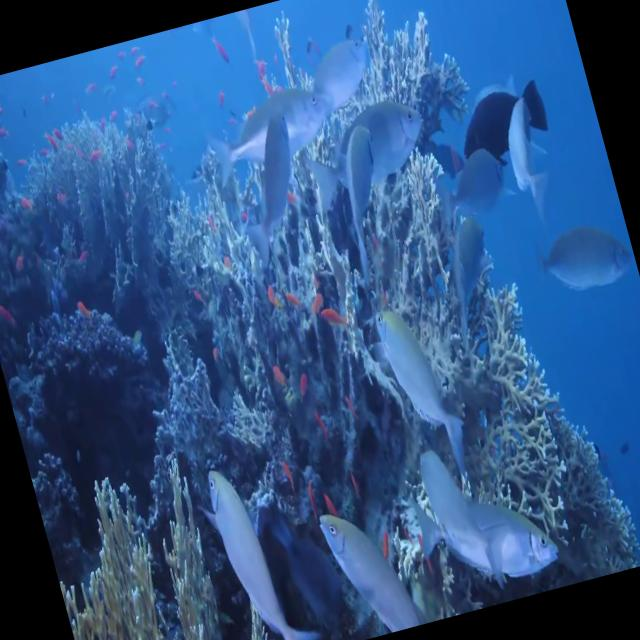fish: (199, 450, 315, 640), (190, 71, 352, 200), (278, 80, 446, 202), (405, 472, 560, 600), (371, 298, 474, 487), (213, 98, 323, 267), (312, 490, 421, 640), (316, 122, 408, 286), (528, 203, 640, 314)
